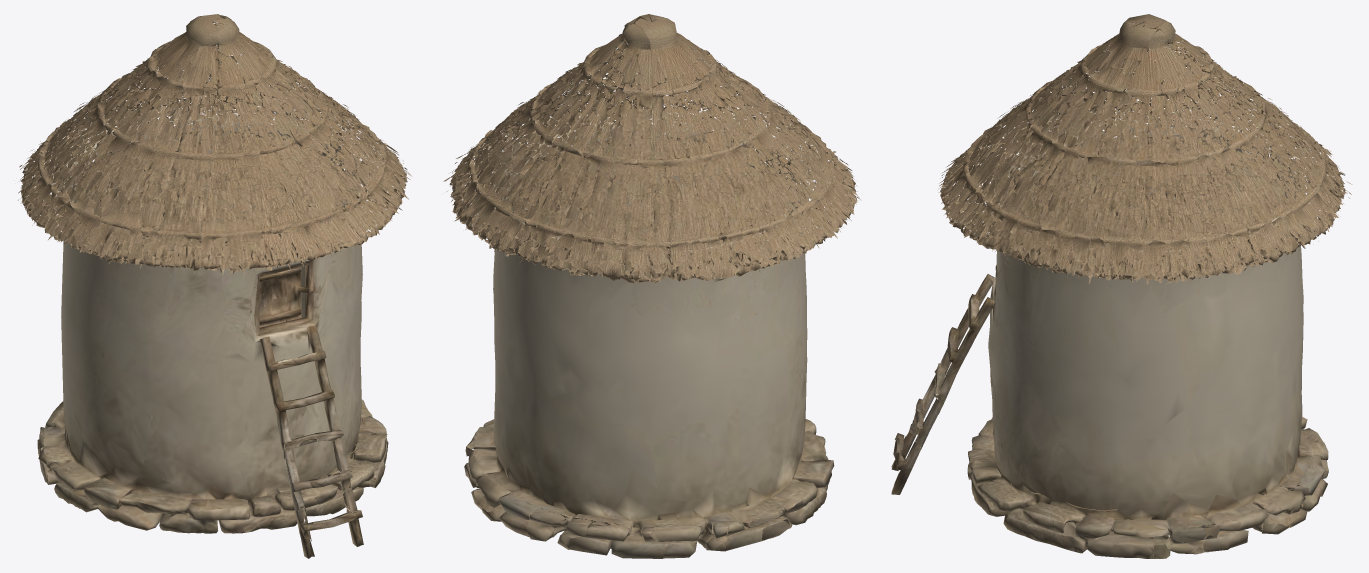
File: granary.glb
3 renders of one model, left to right at view 1: azimuth 30°, elevation 25°; view 2: azimuth 150°, elevation 25°; view 3: azimuth 270°, elevation 25°, orthographic. The views are drawn at different scales.
Parts seen in each view (by area): view 1: Mesh_0; view 2: Mesh_0; view 3: Mesh_0.
Part boxes in pixels (<box>): Mesh_0: <box>18,14,411,558</box>; Mesh_0: <box>443,14,860,558</box>; Mesh_0: <box>891,14,1352,558</box>.
Bounding box in the file's own units: 3.04 × 3.7 × 3.37.
Materials: 1 (1 with a texture image).
